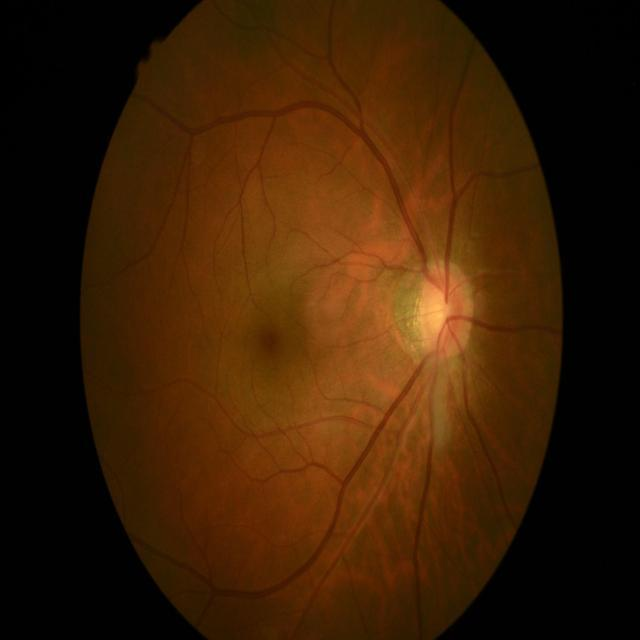cup: (428, 284, 453, 339)
disk: (416, 259, 472, 361)
